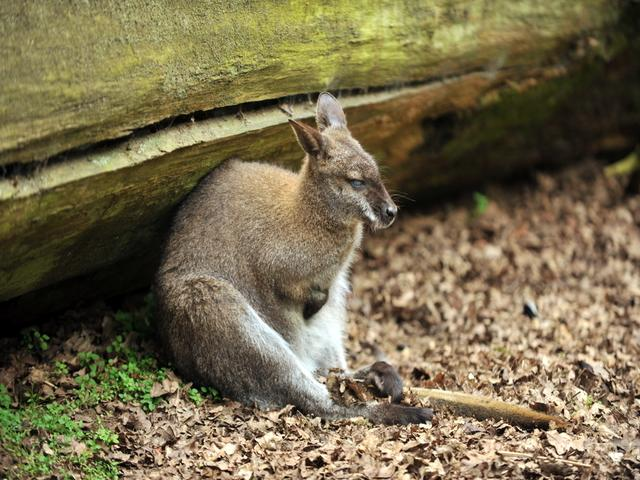kangaroo: (127, 78, 433, 442)
